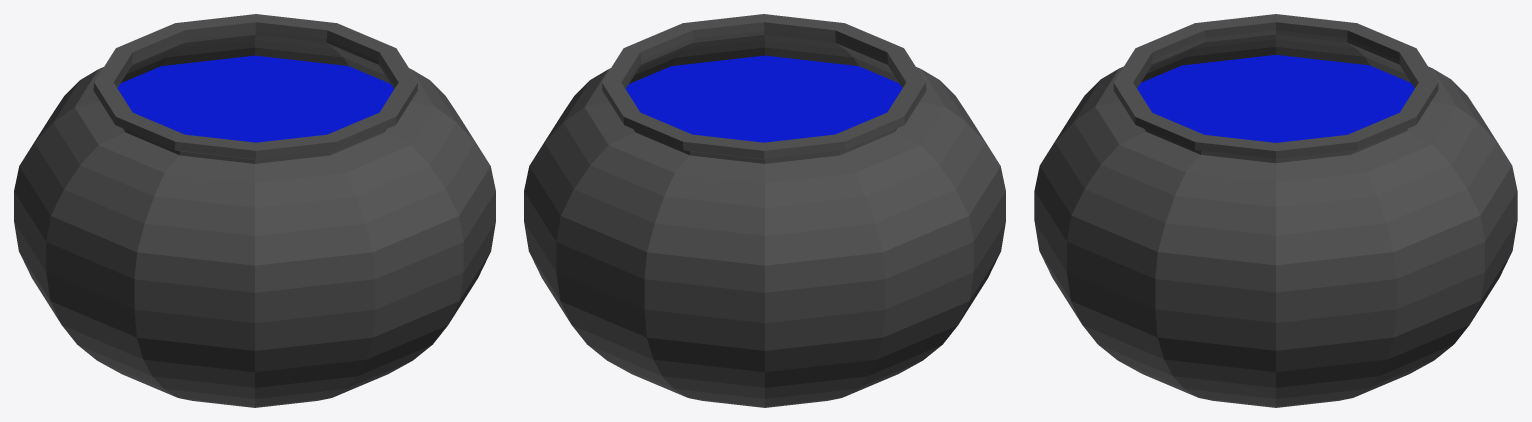
The model's file is Cauldron.fbx.
3 views of the same model, side by side, from view 1: azimuth 30°, elevation 25°; view 2: azimuth 150°, elevation 25°; view 3: azimuth 270°, elevation 25° (orthographic).
Visible parts, largest first — view 1: Cauldron, Fluid; view 2: Cauldron, Fluid; view 3: Cauldron, Fluid.
Boxes of the visible parts, left/top/right/bottom form: Cauldron: left=14, top=14, right=495, bottom=407; Fluid: left=117, top=55, right=394, bottom=142; Cauldron: left=524, top=14, right=1005, bottom=407; Fluid: left=625, top=55, right=902, bottom=142; Cauldron: left=1034, top=14, right=1517, bottom=407; Fluid: left=1137, top=55, right=1414, bottom=142.
Size of the model in its own units: 578 by 380 by 578.
